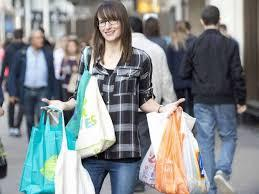Plastic bag: (142, 104, 214, 194), (27, 104, 90, 194), (68, 62, 115, 156)
